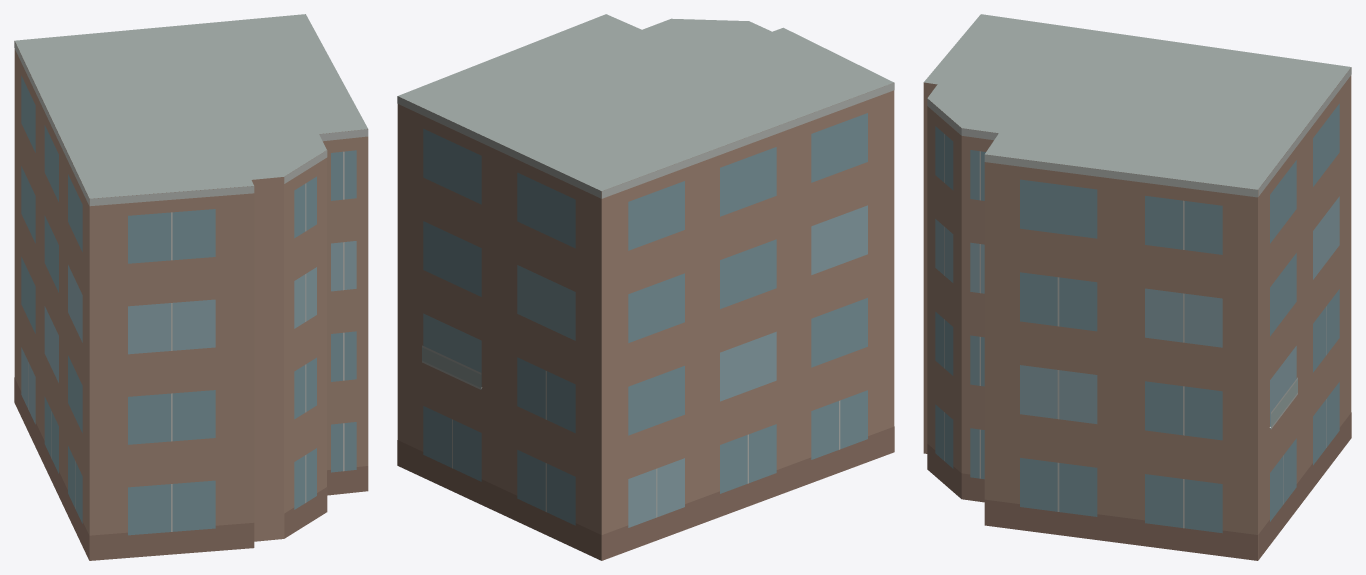
Rendered from survey-upis-32969221.glb.
The picture shows the model from 3 angles, left to right: view 1: azimuth 30°, elevation 25°; view 2: azimuth 150°, elevation 25°; view 3: azimuth 270°, elevation 25°; orthographic projection. The views are drawn at different scales.
Visible parts, largest first — view 1: survey-upis-32969221.tmp; view 2: survey-upis-32969221.tmp; view 3: survey-upis-32969221.tmp.
Part boxes in pixels (left/top/right/bottom): survey-upis-32969221.tmp: left=14, top=14, right=368, bottom=560; survey-upis-32969221.tmp: left=397, top=14, right=894, bottom=560; survey-upis-32969221.tmp: left=923, top=14, right=1351, bottom=560.
Size of the model in its own units: 12 by 11.8 by 12.34.
